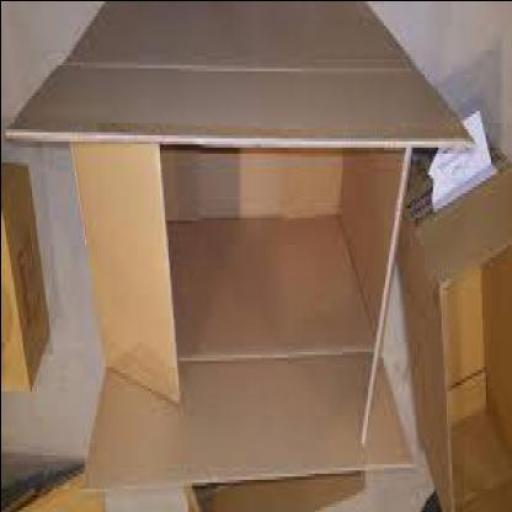cardboard: (3, 3, 473, 476), (391, 150, 510, 512), (1, 170, 48, 396), (178, 472, 364, 510), (2, 471, 104, 511)
